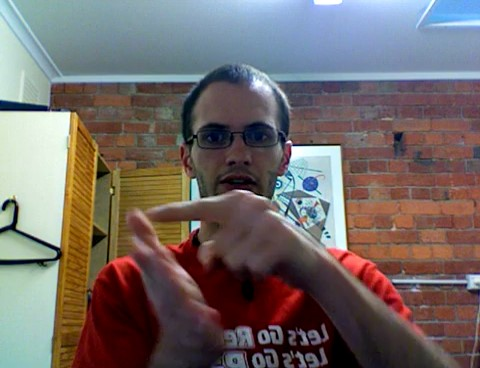J: (107, 183, 335, 362)
